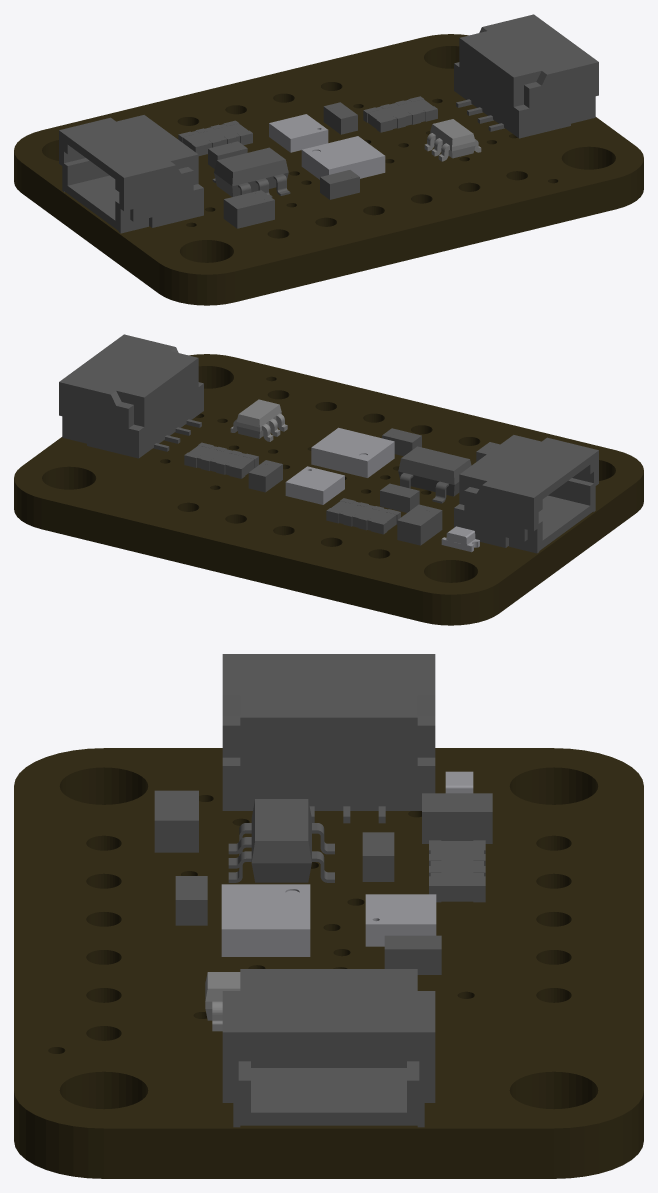
File: adafruit-lsm6dsox-lis3mdl.glb
3 renders of one model, top to bottom at view 1: azimuth 30°, elevation 25°; view 2: azimuth 150°, elevation 25°; view 3: azimuth 270°, elevation 25°, orthographic. The views are drawn at different scales.
Parts seen in each view (by area): view 1: adafruit-lsm6dsox-lis3mdl; view 2: adafruit-lsm6dsox-lis3mdl; view 3: adafruit-lsm6dsox-lis3mdl.
Part boxes in pixels (bbox=[...]): adafruit-lsm6dsox-lis3mdl: bbox=[14, 14, 643, 305]; adafruit-lsm6dsox-lis3mdl: bbox=[14, 334, 643, 625]; adafruit-lsm6dsox-lis3mdl: bbox=[14, 654, 643, 1178].
Bounding box in the file's own units: 25.4 × 4.53 × 17.78.
